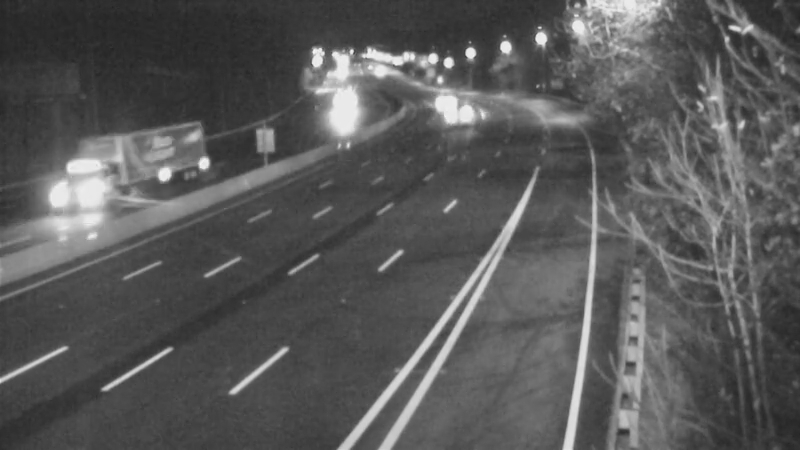vehicle: (58, 138, 138, 218), (415, 76, 465, 126), (436, 88, 486, 138), (321, 79, 371, 129)
